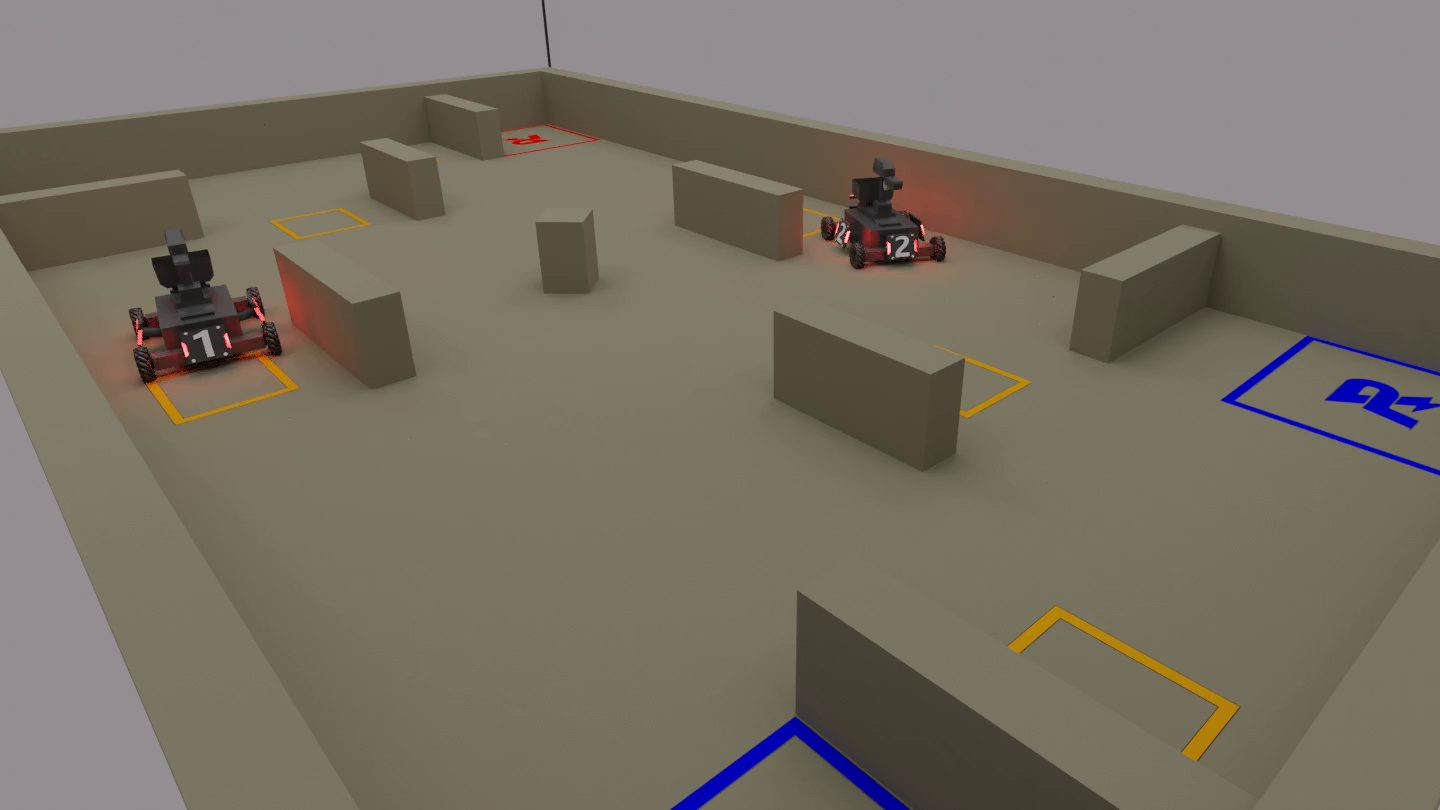Bot 1: (109, 226, 294, 391)
Bot 2: (796, 151, 962, 280)
